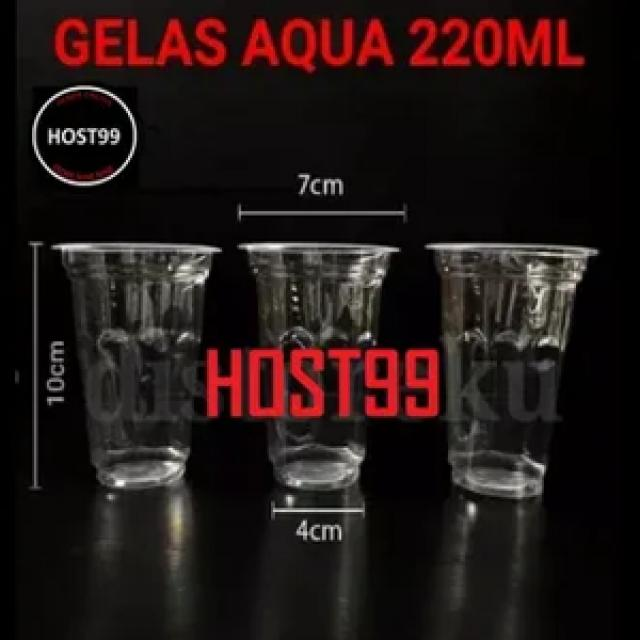plastic cup: (418, 233, 602, 512), (45, 235, 226, 499), (230, 232, 404, 503)
